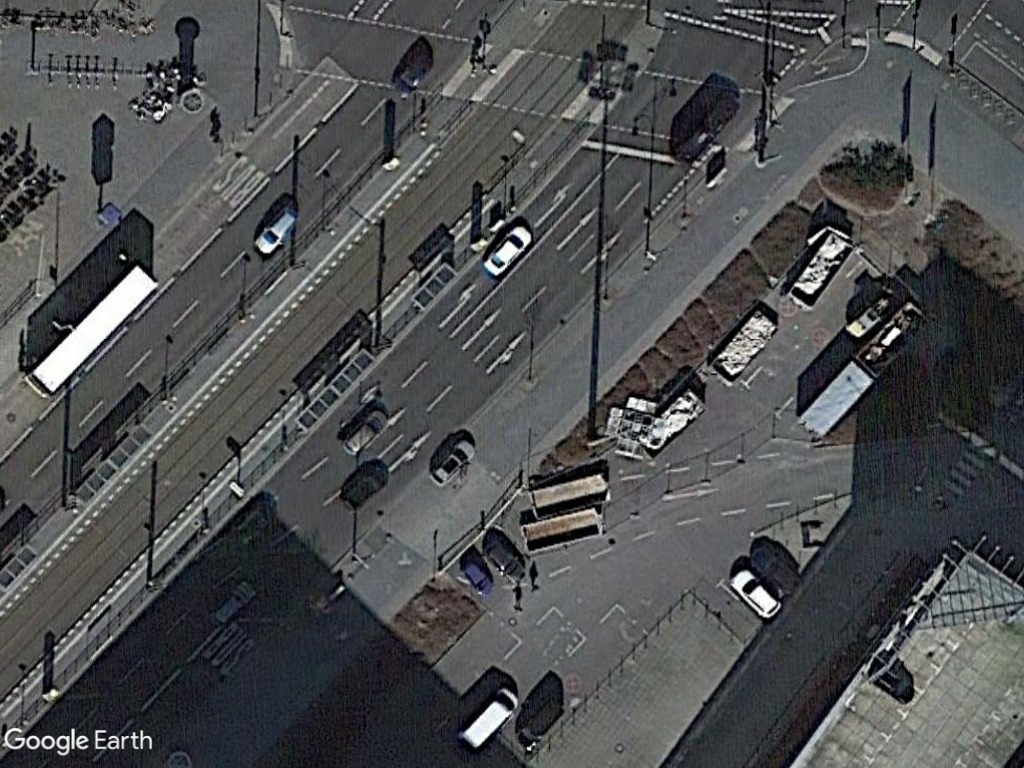car: (476, 220, 539, 281), (722, 564, 785, 623), (247, 202, 304, 262), (338, 403, 394, 460), (425, 437, 483, 488)
longvehicle: (15, 251, 169, 408)
van: (454, 683, 524, 752)
